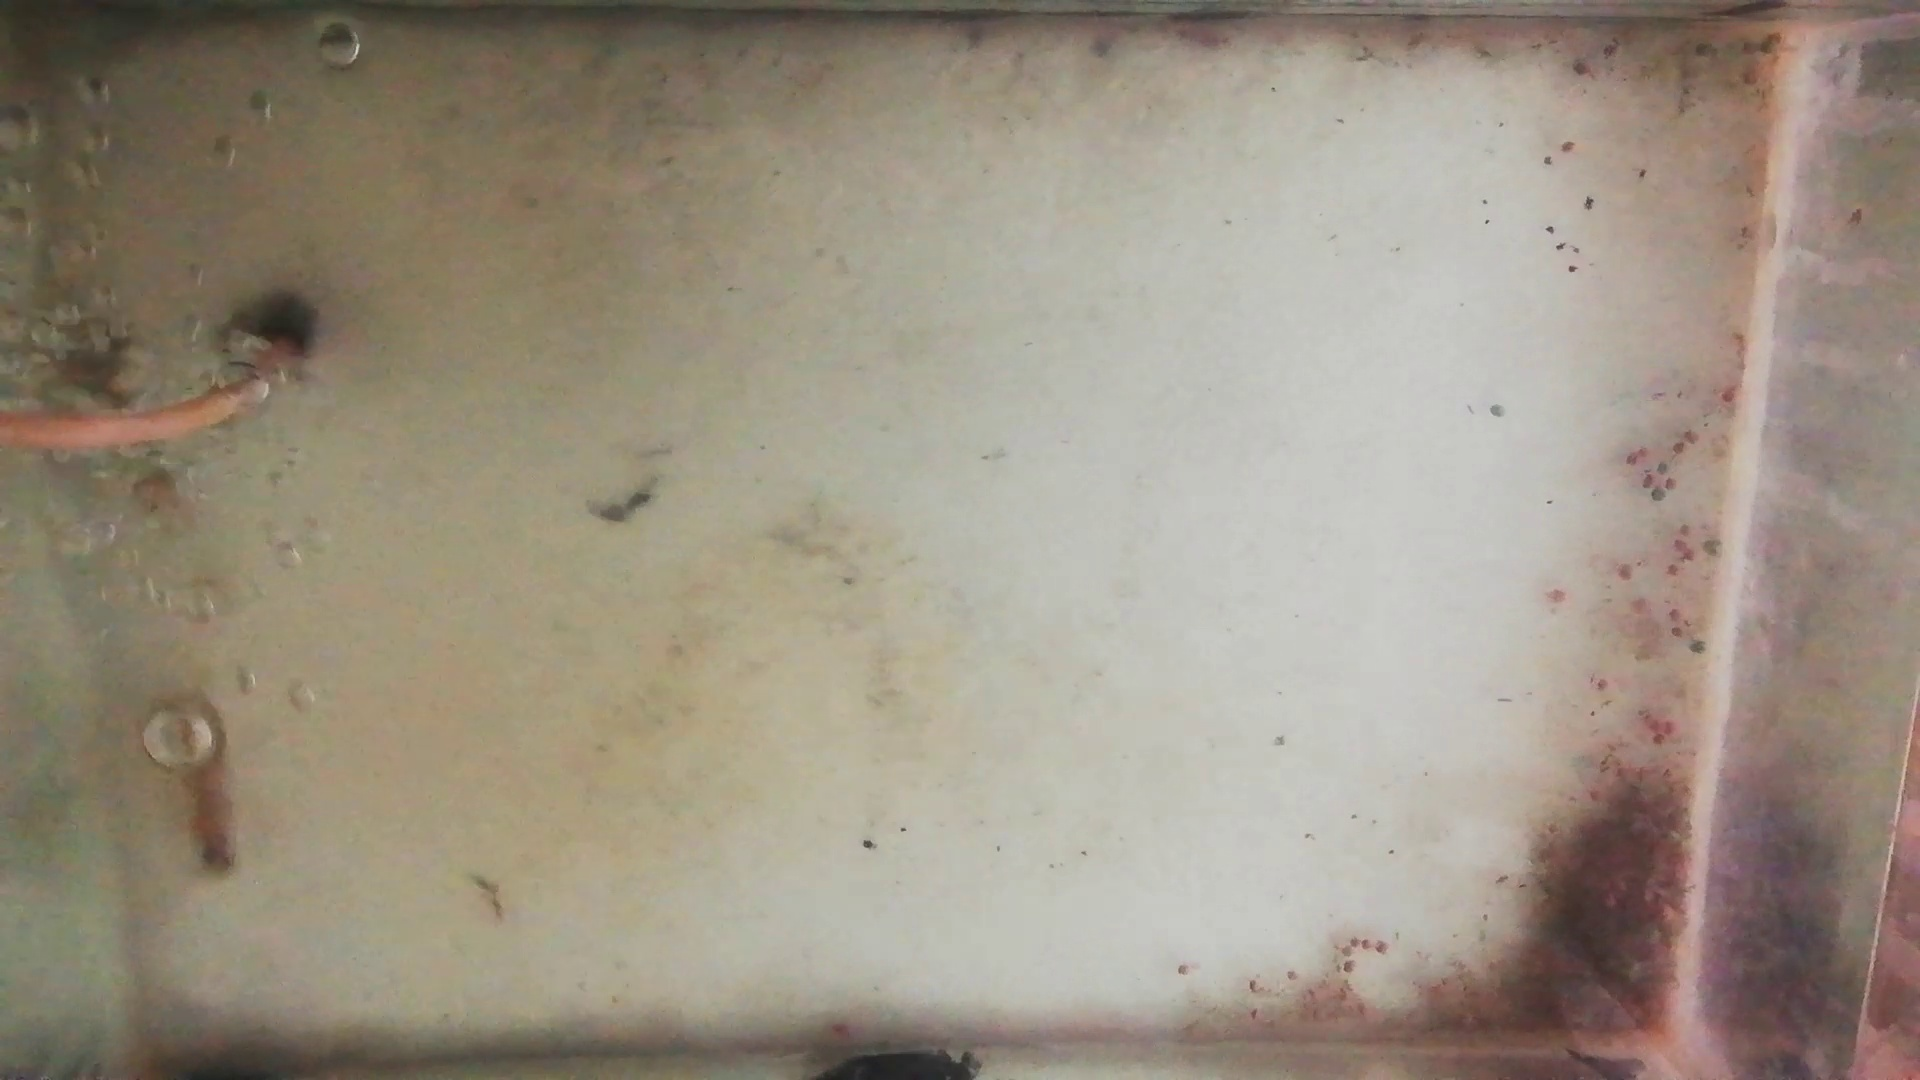fish: (57, 319, 178, 512), (174, 679, 237, 880)
